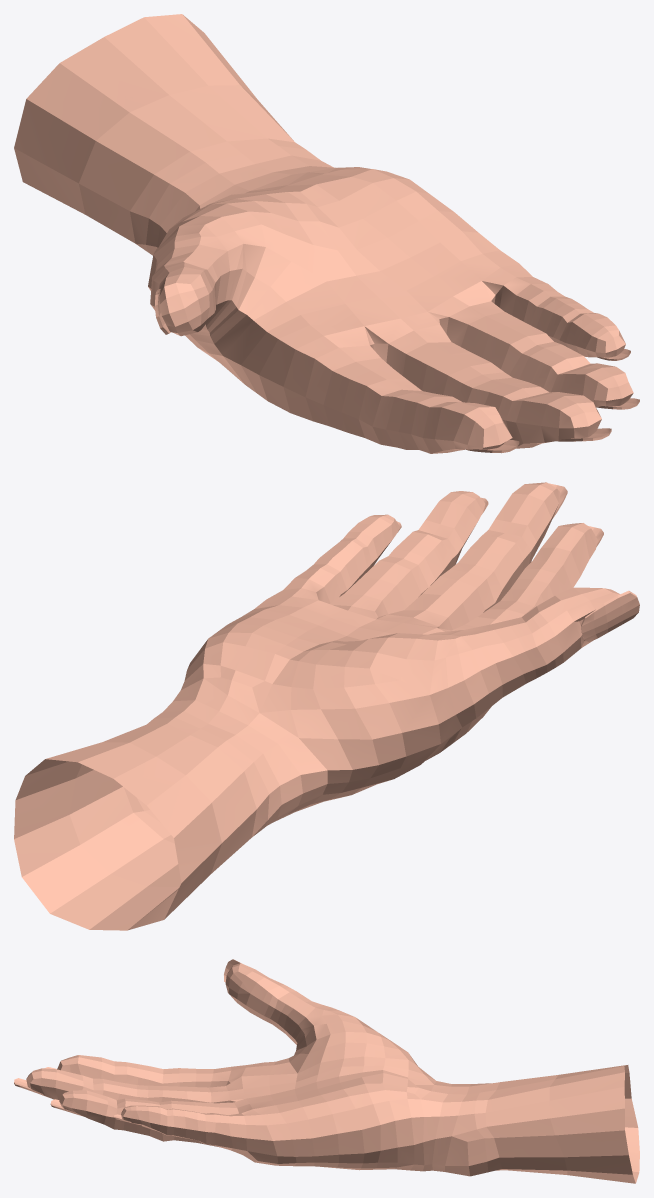
Rendered from 3_7_HandPolygonalRighFront.glb.
3 renders of one model, top to bottom at view 1: azimuth 30°, elevation 25°; view 2: azimuth 150°, elevation 25°; view 3: azimuth 270°, elevation 25°, orthographic. The views are drawn at different scales.
Parts seen in each view (by area): view 1: hand_femme_rachel_polySurface1130.007; view 2: hand_femme_rachel_polySurface1130.007; view 3: hand_femme_rachel_polySurface1130.007.
Part boxes in pixels (x1,y1,x2,y2): hand_femme_rachel_polySurface1130.007: [14, 14, 639, 453]; hand_femme_rachel_polySurface1130.007: [14, 482, 639, 930]; hand_femme_rachel_polySurface1130.007: [14, 959, 639, 1183].
Bounding box in the file's own units: 0.0793 × 0.0399 × 0.1742.
